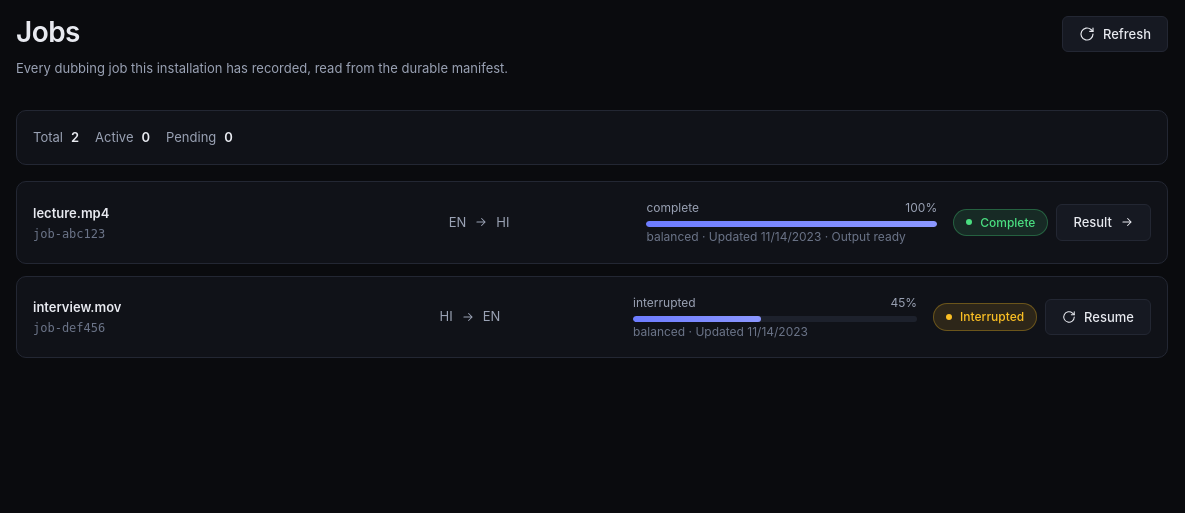
Test case: JobsPage › surfaces the backend message when resume is refused
Click the button "Resume".
click(1098, 317)  # box [1045,299,1151,335]
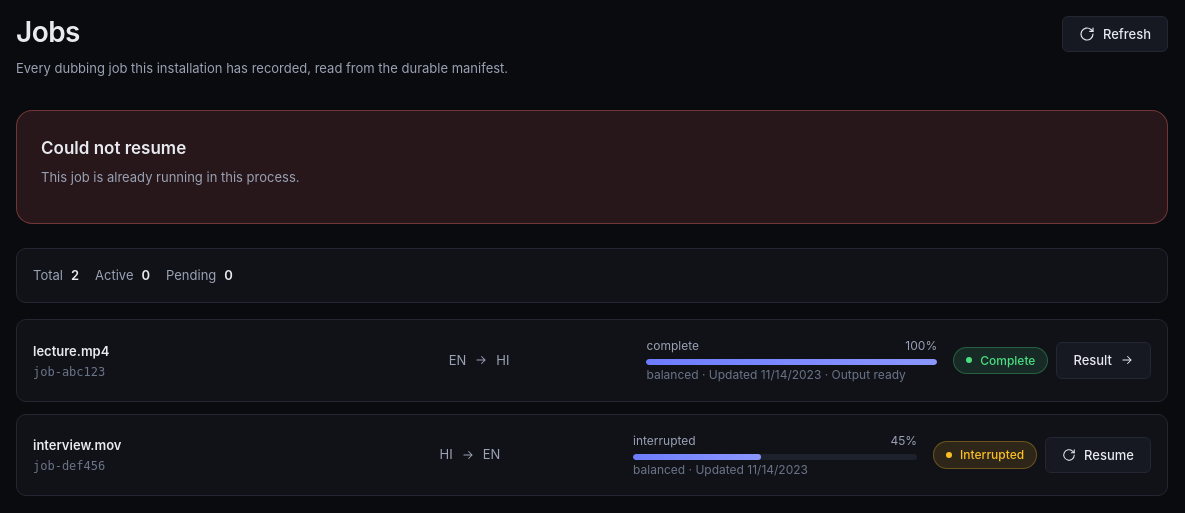
expect the text "This job is already running in this process." is shown: met, box [41,167,300,188]
